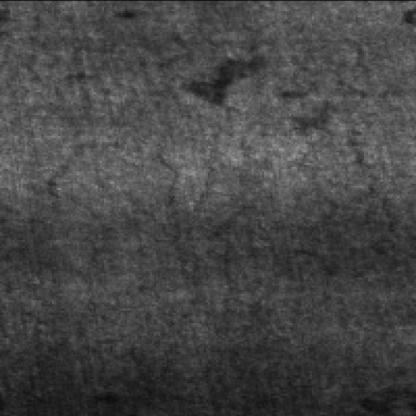crazing: (42, 139, 218, 229)
